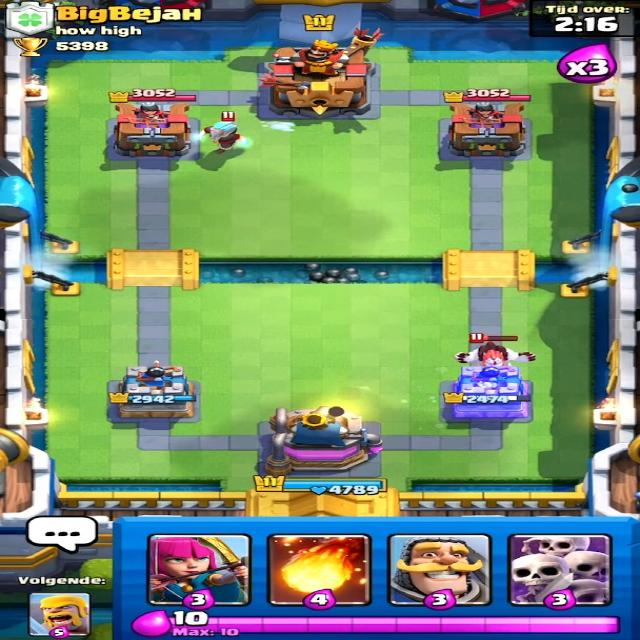Enemy_Ice_Golem_Troop: (459, 339, 537, 372)
Enemy_Ice_Wizard_Troop: (193, 117, 254, 155)
Fireball_Card: (268, 531, 372, 606)
